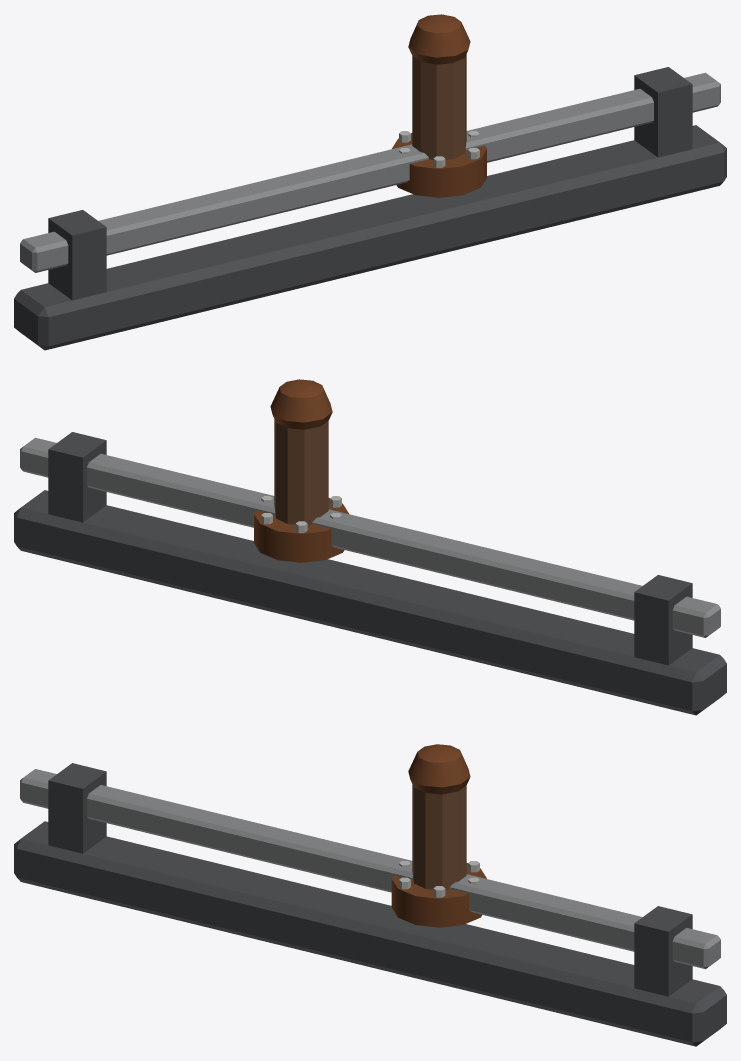
Rendered from cargo-bay-wall-n.glb.
The picture shows the model from 3 angles, top to bottom: view 1: azimuth 30°, elevation 25°; view 2: azimuth 150°, elevation 25°; view 3: azimuth 330°, elevation 25°; orthographic projection.
Parts seen in each view (by area): view 1: body; view 2: body; view 3: body.
Boxes of the visible parts, x1,y1,x2,y2 form: body: (14,14,726,350); body: (14,379,726,715); body: (14,744,726,1046).
Size of the model in its own units: 2 by 0.63 by 0.24.
